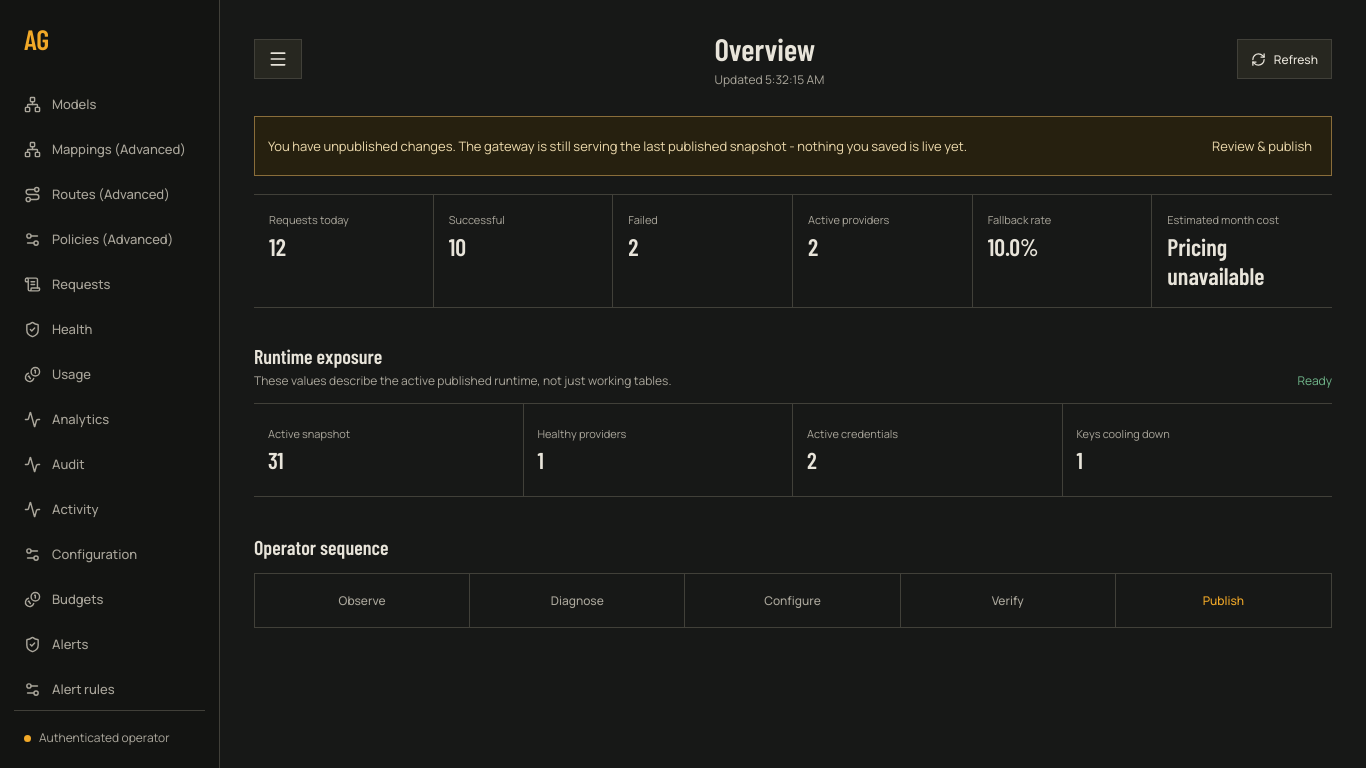
Test: control plane › shows a human-readable publish review before publishing
(page scrolled)
Click the button "Configuration" at point(110, 554), box [14,533,205,575]
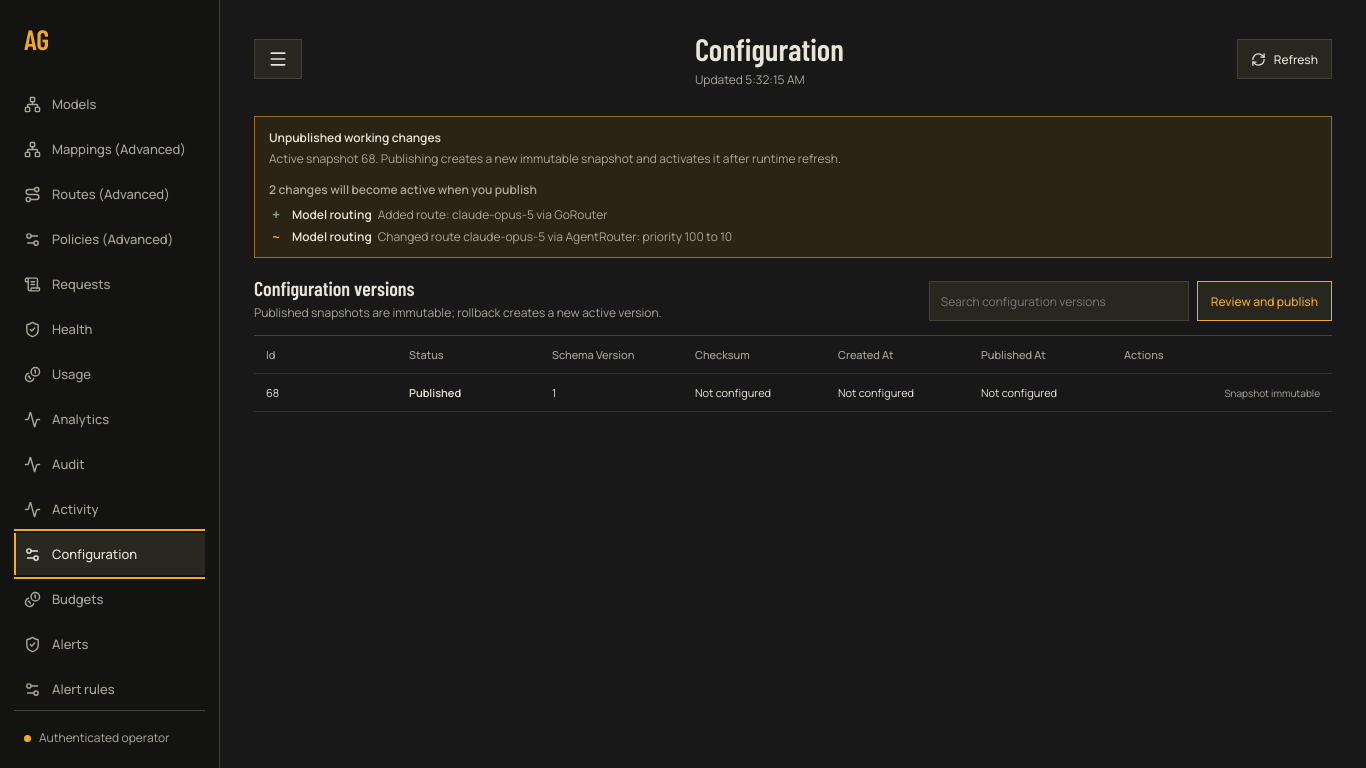
Expected: the text "2 changes will become active when you publish" is shown, [269,181,537,198]
Expected: the text "Added route: claude-opus-5 via GoRouter" is shown, [378,206,608,223]
Expected: the text "Changed route claude-opus-5 via AgentRouter: priority 100 to 10" is shown, [378,228,732,245]
